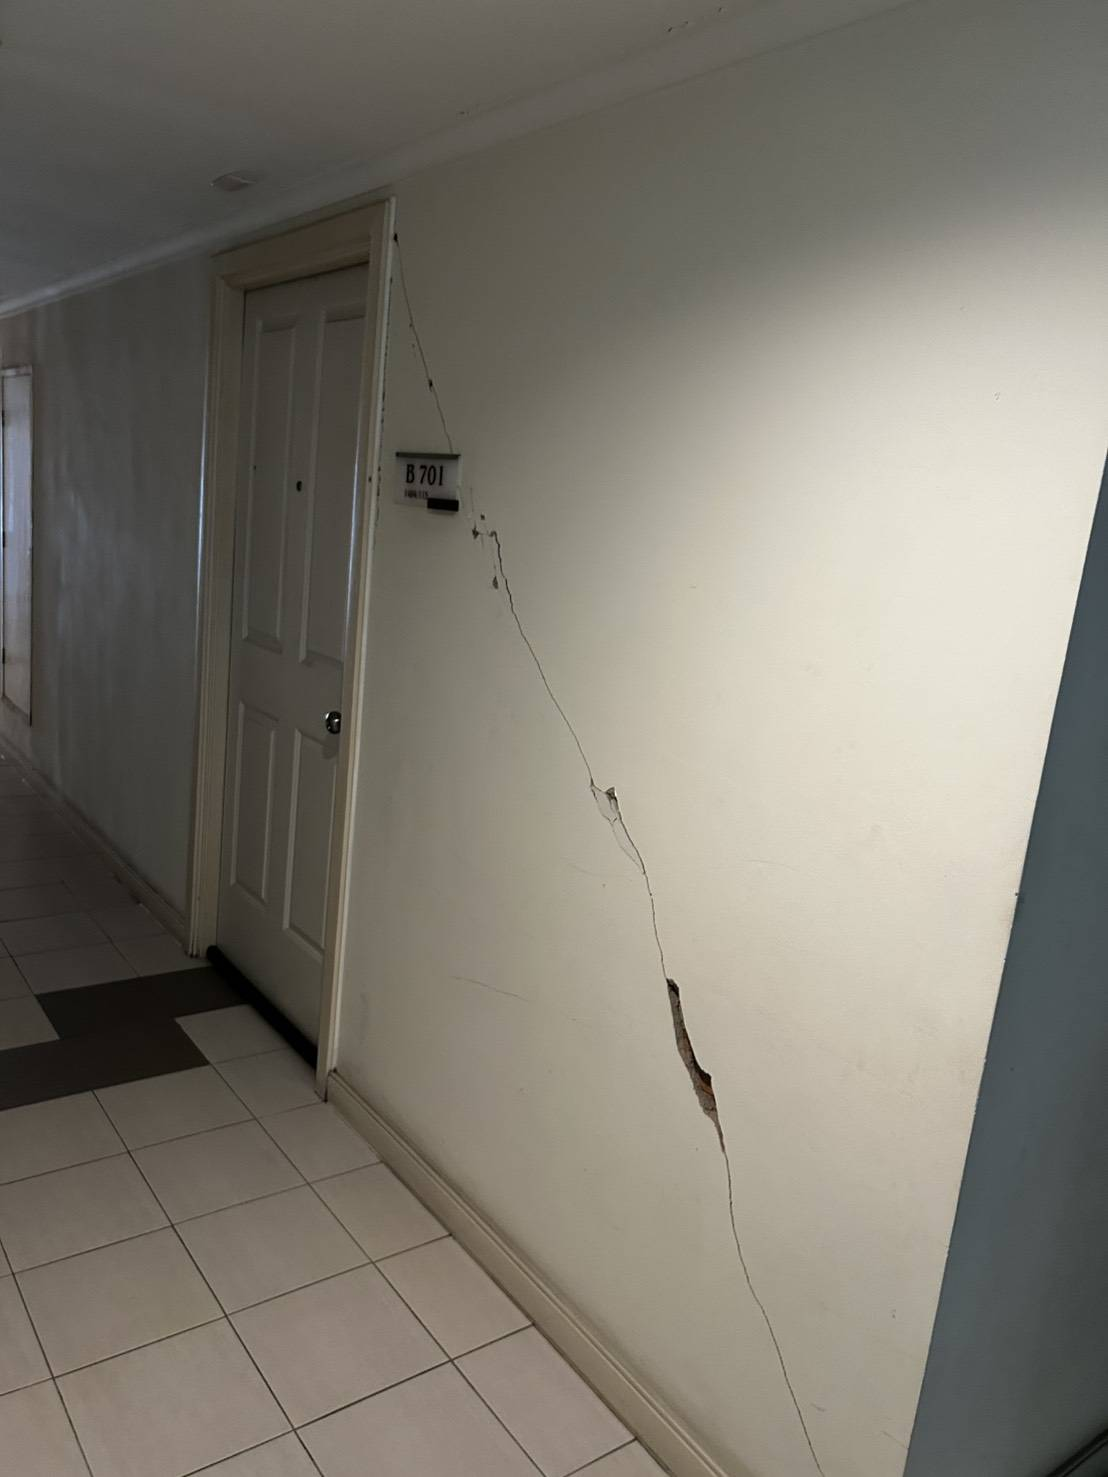Medium: (475, 524, 810, 1216)
